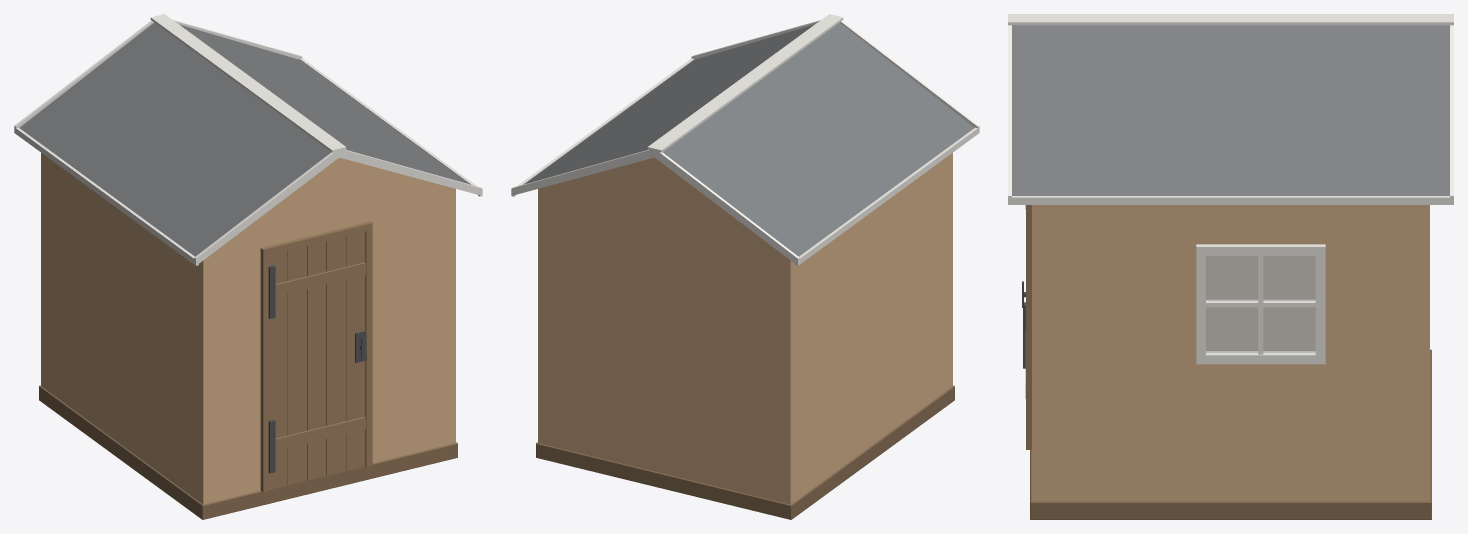
3 renders of one model, left to right at view 1: azimuth 30°, elevation 25°; view 2: azimuth 150°, elevation 25°; view 3: azimuth 270°, elevation 25°, orthographic. The views are drawn at different scales.
Parts seen in each view (by area): view 1: WallStructure, PitchedRoof_1, FrontDoor, RoofTrim, PitchedRoof_0, FloorBase, GableWalls_0, DoorHardware; view 2: WallStructure, PitchedRoof_1, RoofTrim, PitchedRoof_0, FloorBase, GableWalls_1; view 3: WallStructure, PitchedRoof_0, RoofTrim, WindowGlass, FloorBase, SideWindowFrame, FrontDoor.
Part boxes in pixels (box(x1,y1,x2,y2)): WallStructure: box(41, 153, 455, 504); PitchedRoof_1: box(19, 22, 331, 256); FrontDoor: box(260, 221, 372, 492); RoofTrim: box(14, 14, 482, 265); PitchedRoof_0: box(179, 24, 469, 184); FloorBase: box(39, 385, 457, 519); GableWalls_0: box(229, 157, 448, 240); DoorHardware: box(268, 265, 367, 473); WallStructure: box(538, 153, 952, 504); PitchedRoof_1: box(662, 22, 974, 256); RoofTrim: box(511, 14, 979, 265); PitchedRoof_0: box(524, 24, 814, 184); FloorBase: box(536, 385, 954, 519); GableWalls_1: box(545, 157, 764, 240); WallStructure: box(1032, 205, 1429, 501); PitchedRoof_0: box(1012, 25, 1449, 195); RoofTrim: box(1008, 14, 1453, 204); WindowGlass: box(1206, 256, 1315, 352); FloorBase: box(1030, 349, 1431, 519); SideWindowFrame: box(1196, 244, 1325, 364); FrontDoor: box(1025, 205, 1031, 449).
Size of the model in its own units: 2.04 by 2.36 by 2.24.
